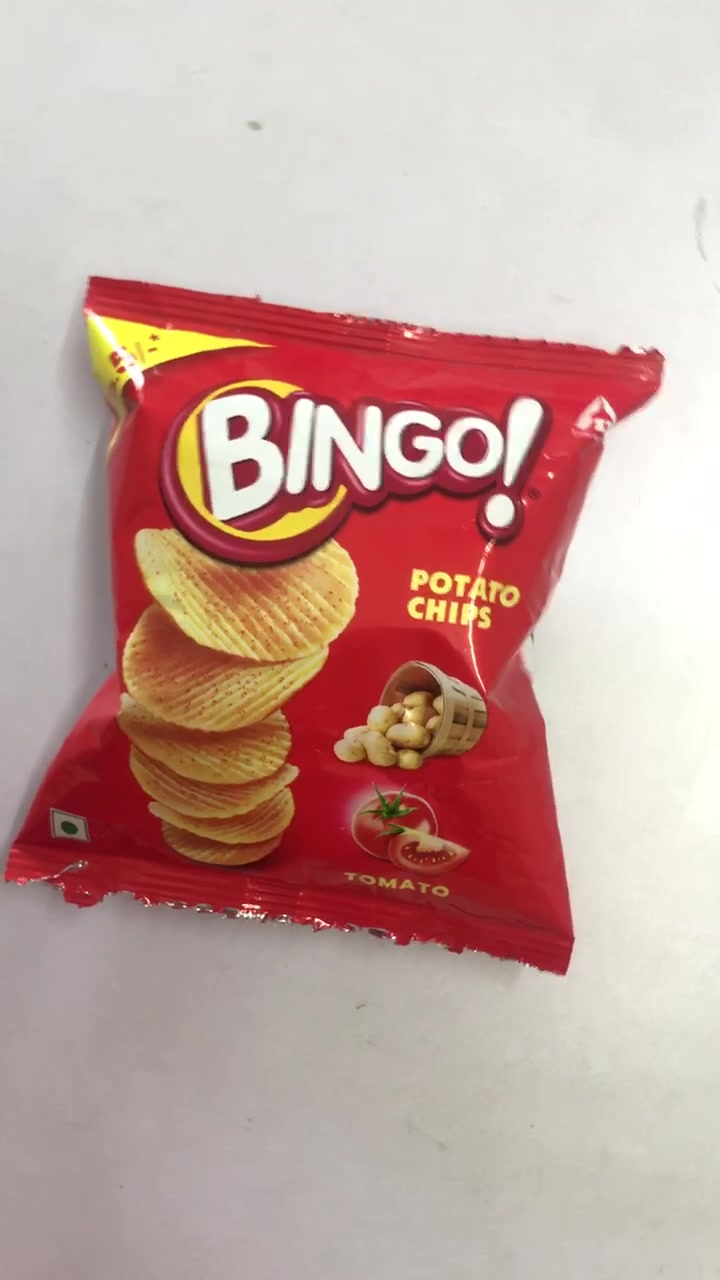Bingo: (12, 284, 662, 970)
